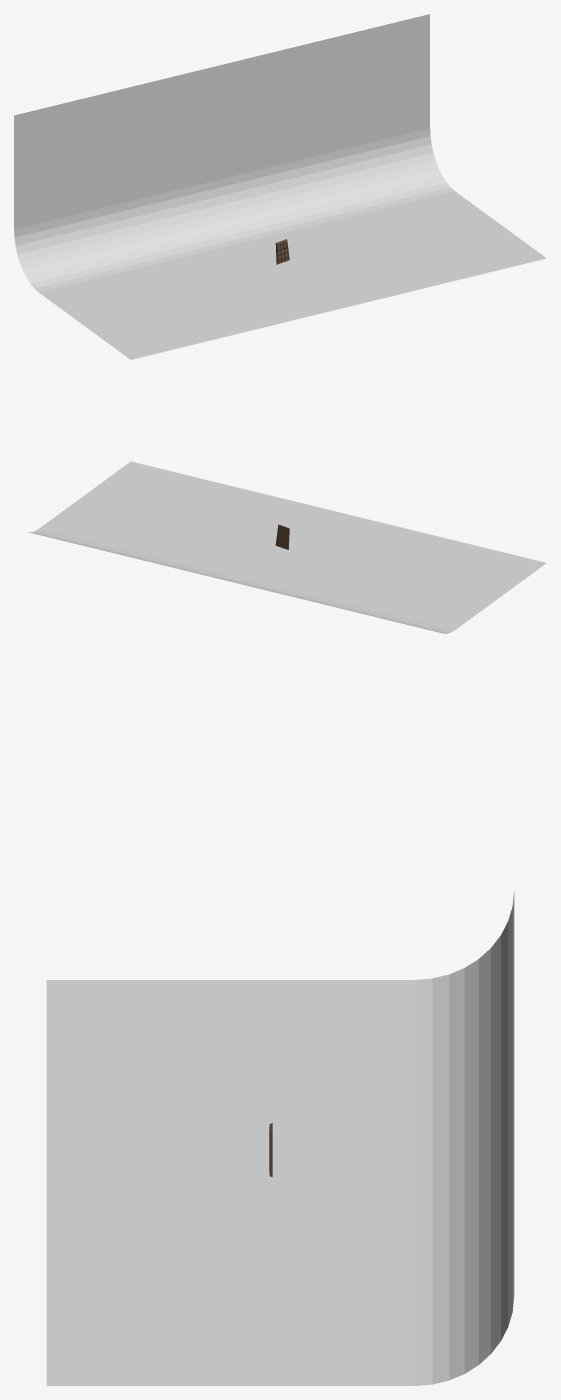
The model's file is Chocolat.glb.
3 views of the same model, one above another, from view 1: azimuth 30°, elevation 25°; view 2: azimuth 150°, elevation 25°; view 3: azimuth 270°, elevation 25° (orthographic). The views are drawn at different scales.
Parts seen in each view (by area): view 1: Plane; view 2: Plane; view 3: Plane.
Part boxes in pixels (x1,y1,x2,y2): Plane: [14, 14, 546, 359]; Plane: [27, 461, 546, 633]; Plane: [46, 891, 514, 1385].
Bounding box in the file's own units: 38.97 × 14.22 × 18.96.
Materials: 1 (1 with a texture image).
